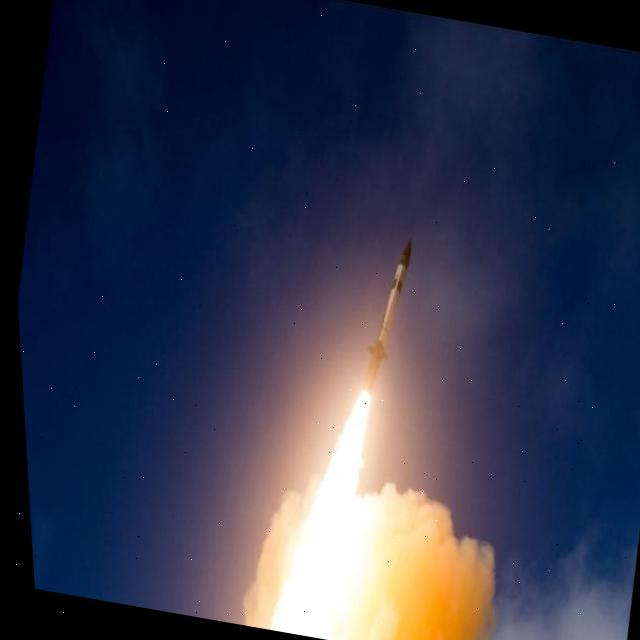missile: (347, 234, 421, 386)
